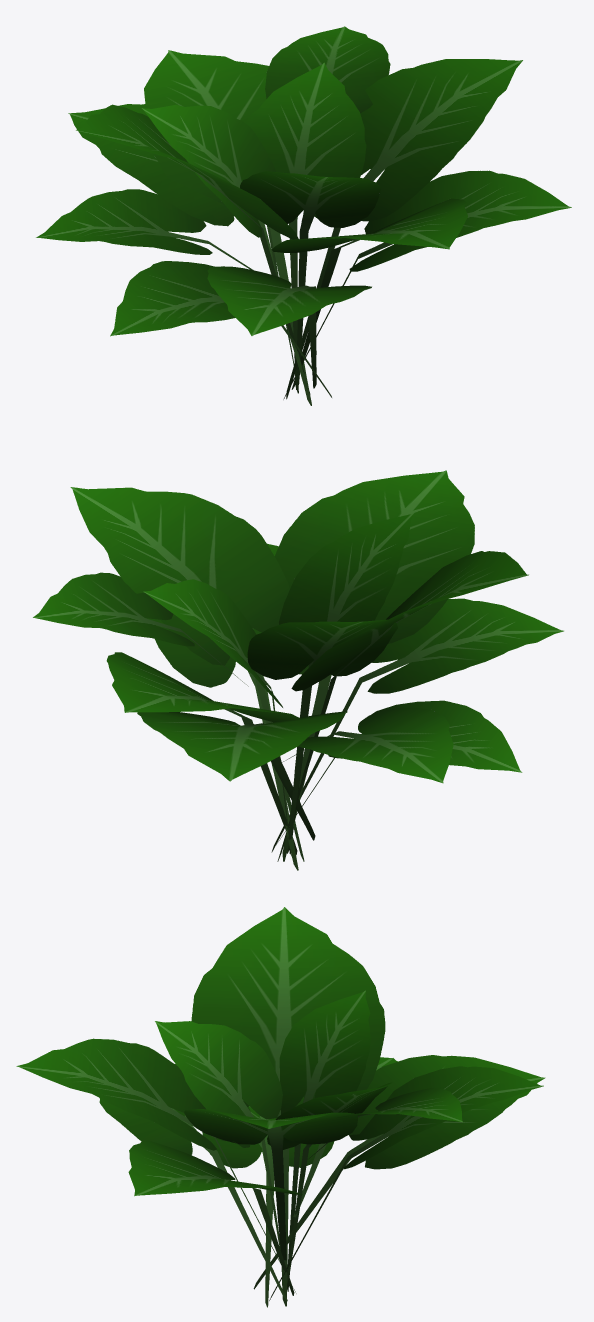
File: Fern 2.FBX
3 renders of one model, top to bottom at view 1: azimuth 30°, elevation 25°; view 2: azimuth 150°, elevation 25°; view 3: azimuth 270°, elevation 25°, orthographic. The views are drawn at different scales.
Parts seen in each view (by area): view 1: Plane009; view 2: Plane009; view 3: Plane009.
Boxes of the visible parts, x1=… form: Plane009: x1=36, y1=26, x2=571, y2=405; Plane009: x1=33, y1=470, x2=563, y2=870; Plane009: x1=16, y1=907, x2=545, y2=1307.
Size of the model in its own units: 12.98 by 9.02 by 15.14.
1 material, 1 textured.
